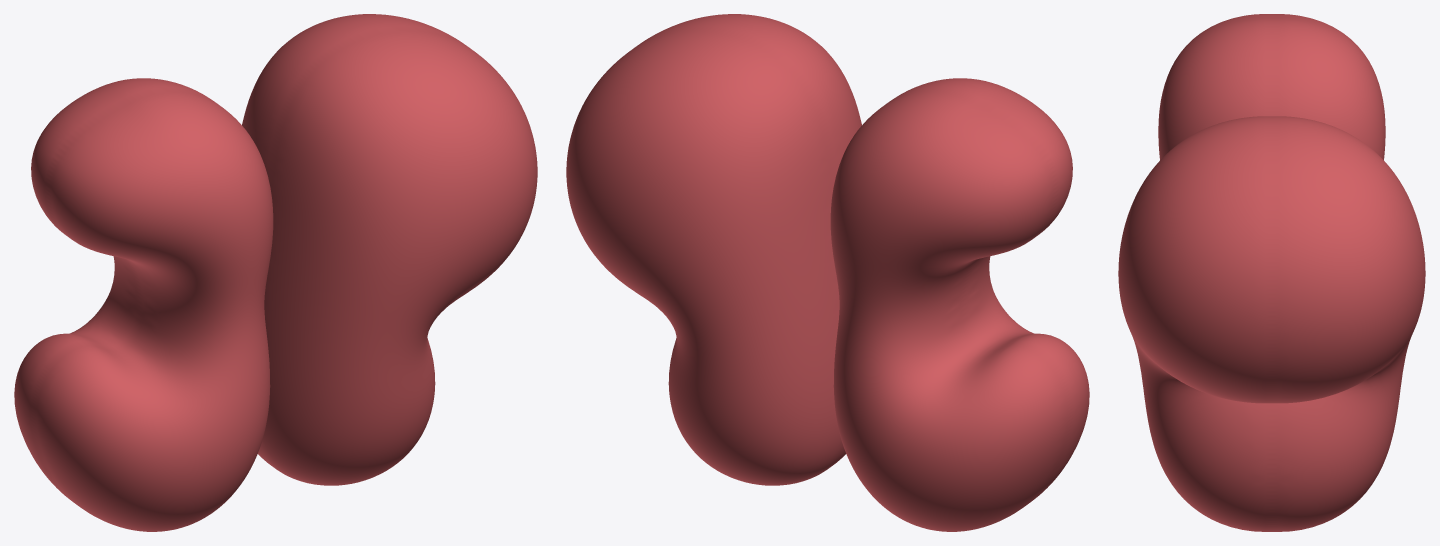
Rendered from Asset1.gltf.
3 views of the same model, side by side, from view 1: azimuth 30°, elevation 25°; view 2: azimuth 150°, elevation 25°; view 3: azimuth 270°, elevation 25° (orthographic). The views are drawn at different scales.
Bounding box in the file's own units: 0.1612 × 0.1383 × 0.0919.
